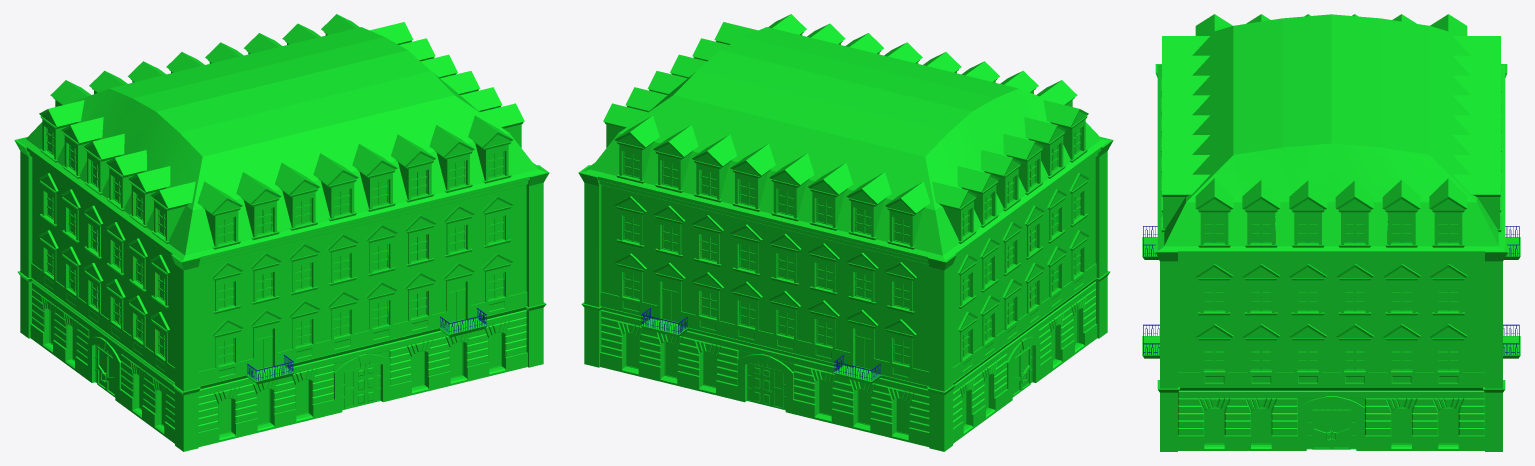
Rendered from Hause_2_Tris.fbx.
The picture shows the model from 3 angles, left to right: view 1: azimuth 30°, elevation 25°; view 2: azimuth 150°, elevation 25°; view 3: azimuth 270°, elevation 25°; orthographic projection. The views are drawn at different scales.
Visible parts, largest first — view 1: Hause_003; view 2: Hause_003; view 3: Hause_003.
Boxes of the visible parts, x1,y1,x2,y2 form: Hause_003: (14,14,549,451); Hause_003: (578,14,1113,451); Hause_003: (1142,14,1520,451).
Size of the model in its own units: 804 by 558 by 681.
